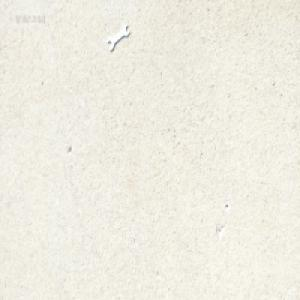Wrench: (107, 21, 129, 49)
